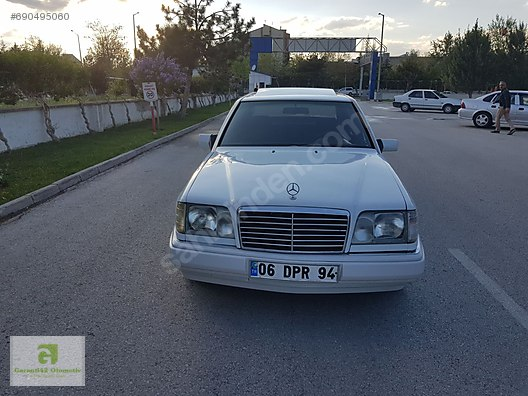mercedes: (165, 82, 428, 302)
